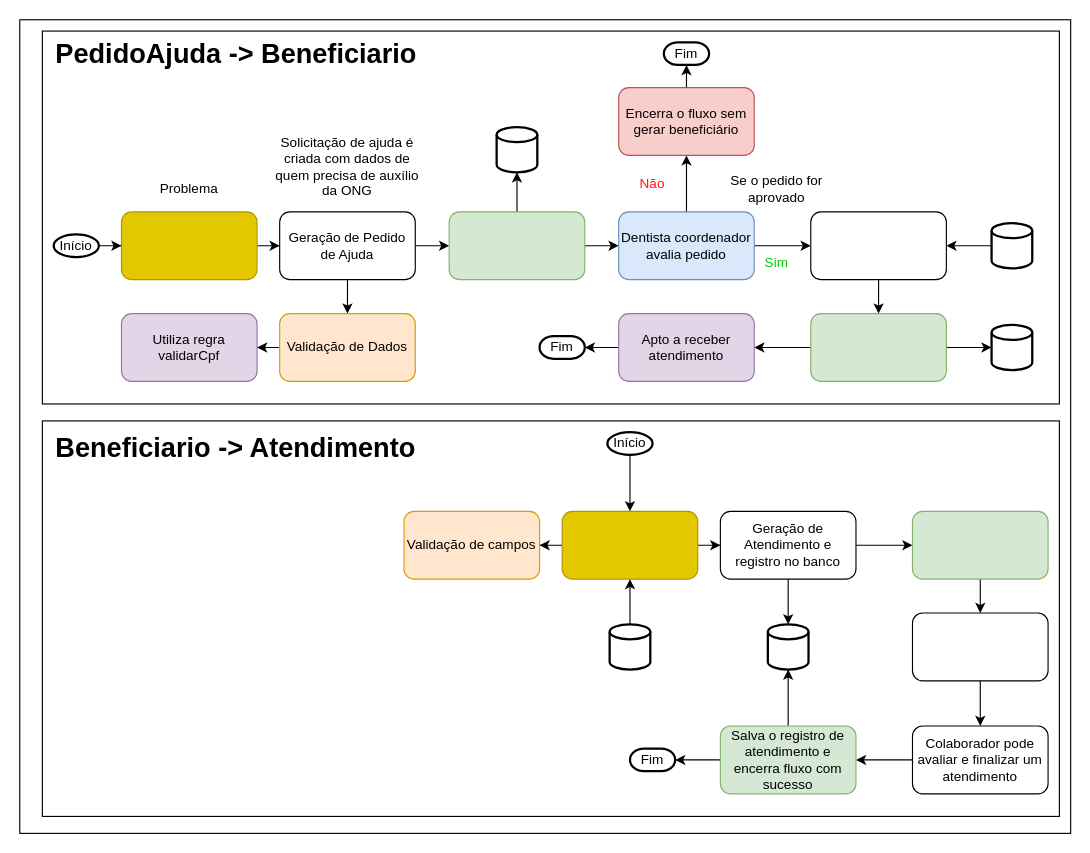
Some shapes in this 1090 by 853 pixel diagram are drawn without their labels. The shapes that lost their labels are listed below. From the top down, each one's box as (x1, y1, x2, y2) in pixels, then its label:
(120, 211, 257, 280): Necessidade de um pedido de ajuda
(448, 211, 585, 280): Pedido criado na base, com status pendente
(810, 211, 946, 280): Geração de beneficiário a partir dos dados do pedido de ajuda
(810, 312, 946, 381): Beneficiário salvo no banco de dados
(561, 510, 698, 579): Insere beneficiário, e dentista, e busca a existência deles no banco de dados
(911, 510, 1048, 579): Atendimento se inicia
(911, 612, 1048, 681): Quando finalizado, o dentista relata o processo feito com o beneficiário
